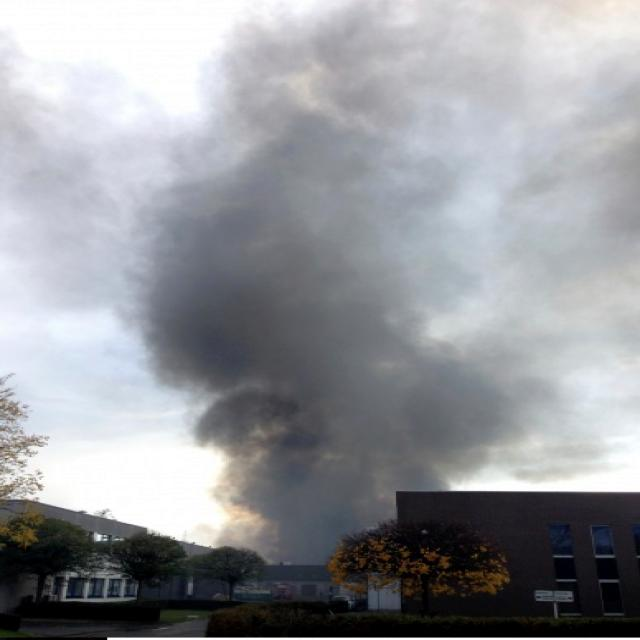Smoke: (138, 0, 620, 541)
